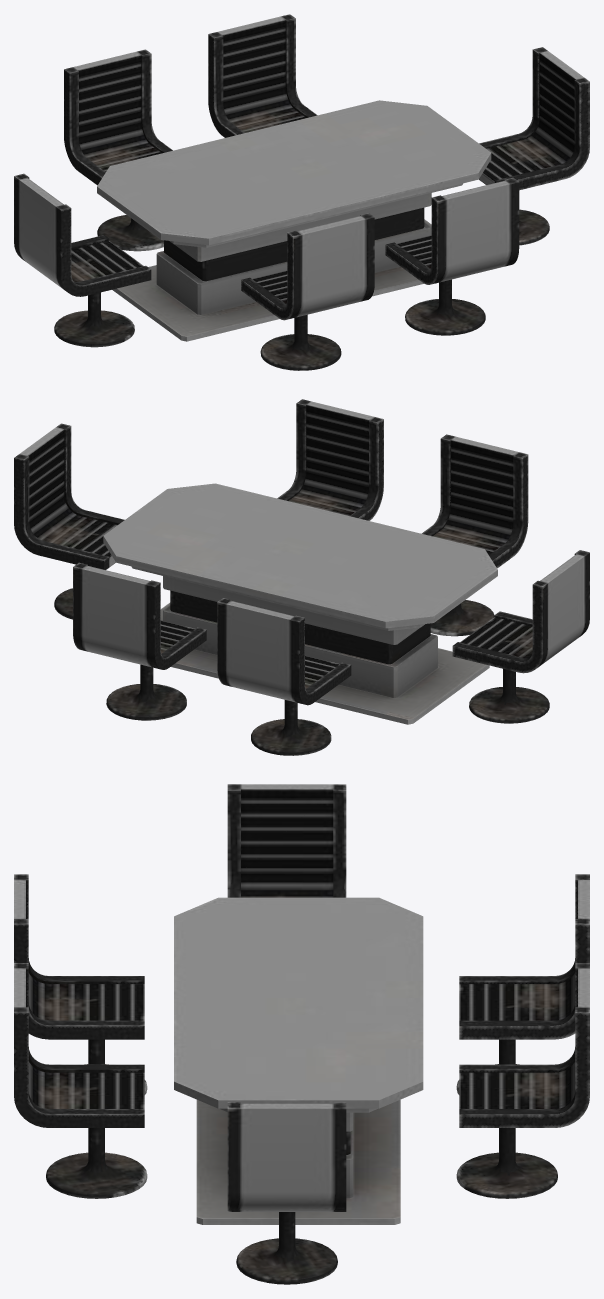
Rendered from SM_table_02.glb.
3 renders of one model, top to bottom at view 1: azimuth 30°, elevation 25°; view 2: azimuth 150°, elevation 25°; view 3: azimuth 270°, elevation 25°, orthographic. The views are drawn at different scales.
Parts seen in each view (by area): view 1: SM_table_02; view 2: SM_table_02; view 3: SM_table_02.
Boxes of the visible parts, left/top/right/bottom form: SM_table_02: left=14, top=14, right=589, bottom=370; SM_table_02: left=14, top=399, right=589, bottom=755; SM_table_02: left=14, top=784, right=589, bottom=1284.
Bounding box in the file's own units: 4.19 × 1.14 × 3.15.
Materials: 1 (1 with a texture image).
